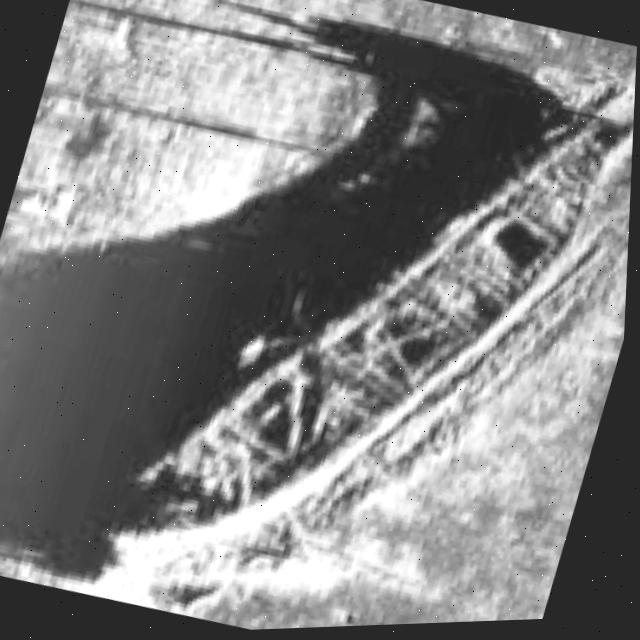shipwreck: (109, 25, 638, 624)
